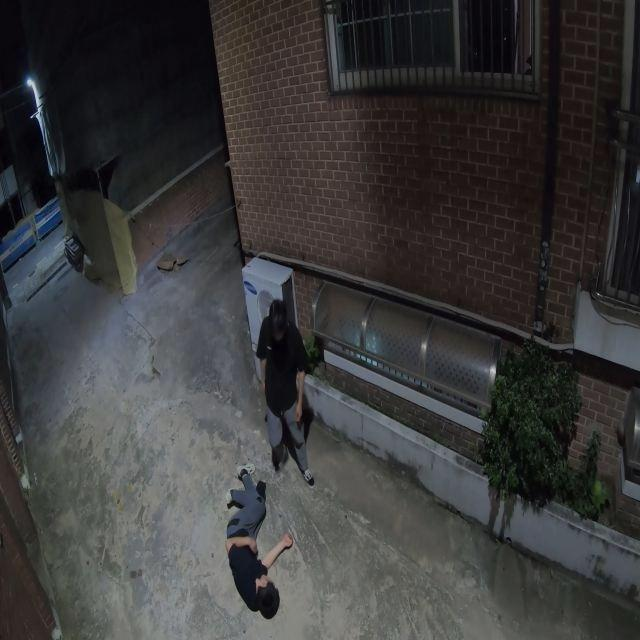fight: (256, 300, 314, 482)
non-fight: (224, 473, 291, 619)
